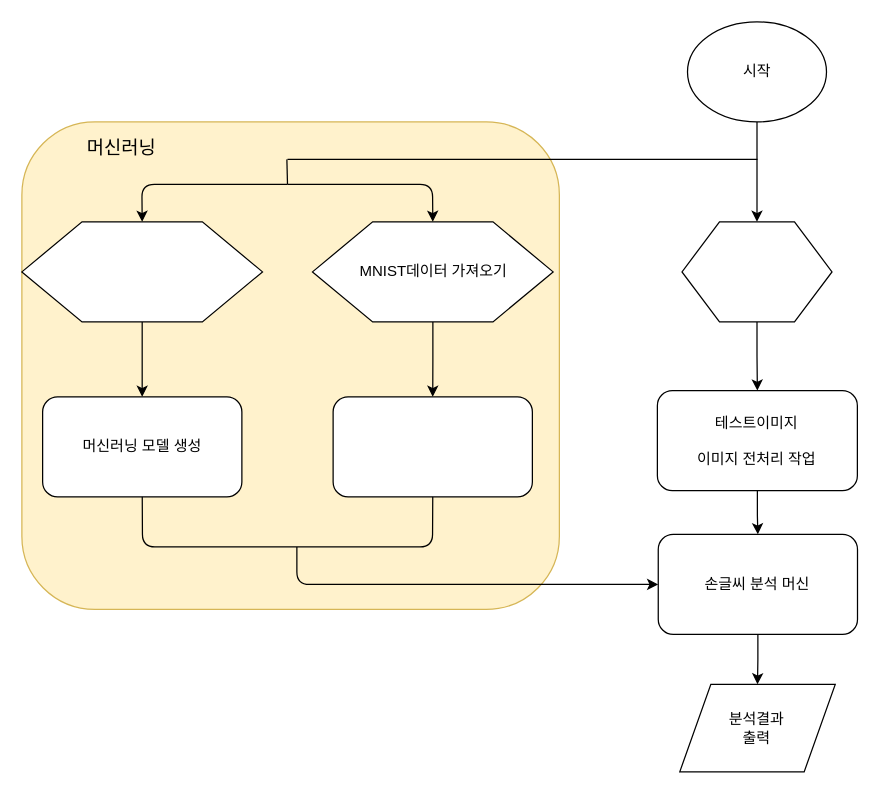
The diagram is 880 pixels wide and 794 high, and some of its shapes have lost their labels. The centre of each missing label's shape, as x and y in pixels:
뉴럴 네트워크 디자인, 옵티마이져 등 파라미터 설정: pixel 141 271
테스트이미지 불러오기: pixel 756 271
학습용 MNIST데이터 전처리 작업: pixel 432 446
